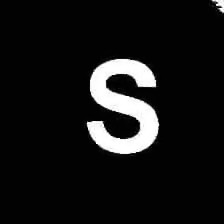LTR_S: (81, 54, 169, 158)
